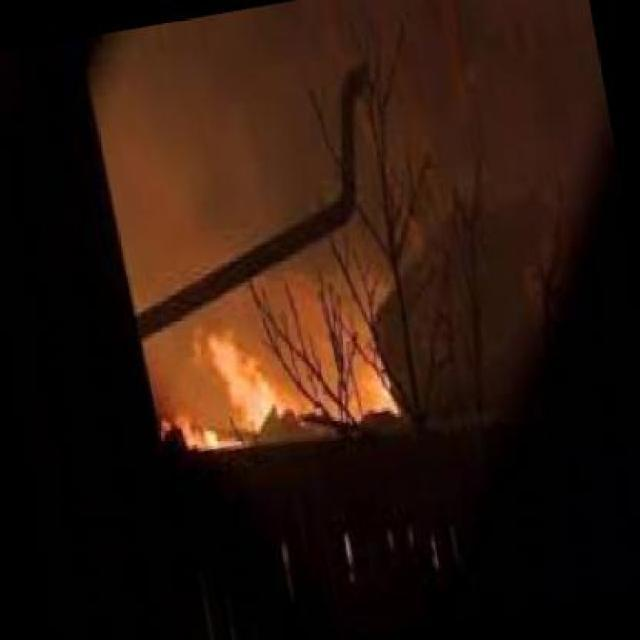Fire: (160, 325, 304, 453), (344, 350, 404, 425)
Smoke: (368, 10, 577, 306), (154, 0, 342, 325)
